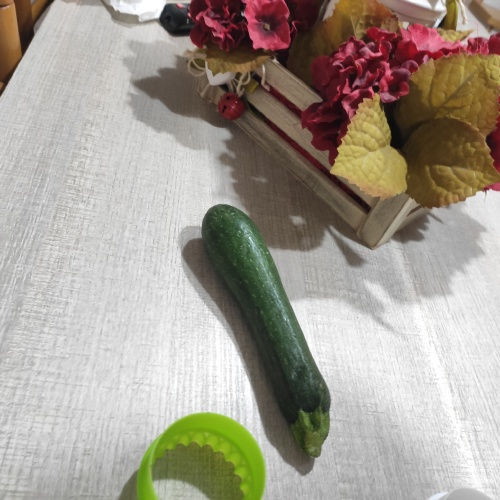zucchine: (205, 203, 341, 423)
